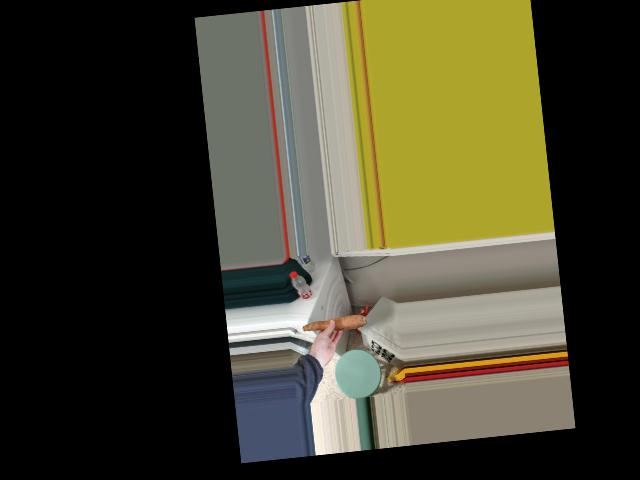sweet_potato: (300, 312, 366, 339)
